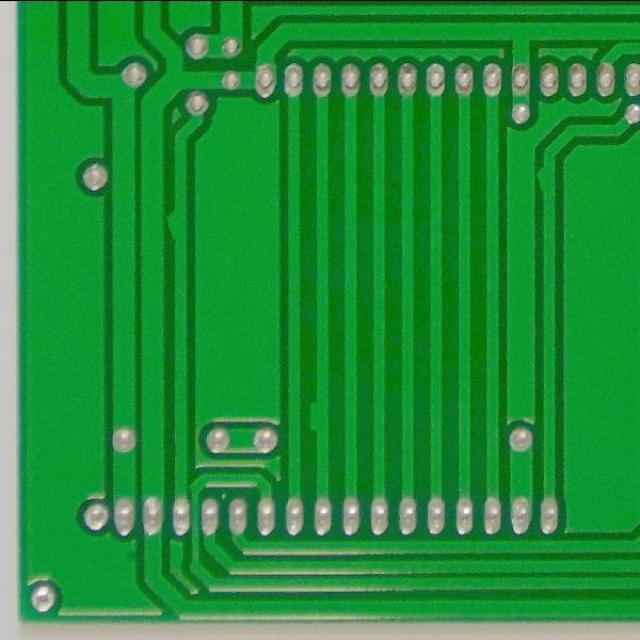spur: (304, 392, 330, 442), (529, 160, 560, 197), (163, 204, 188, 243)
